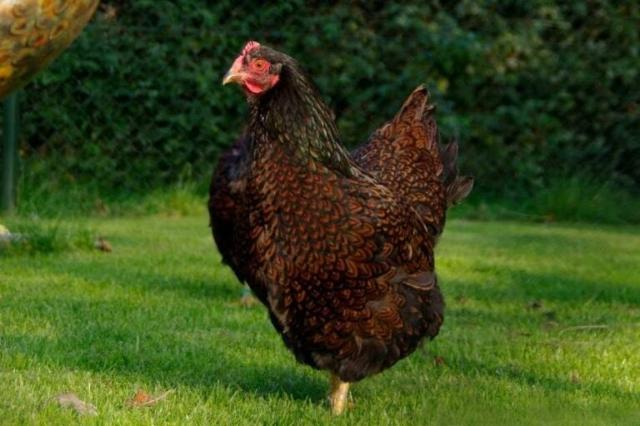Chicken: (209, 38, 472, 416)
